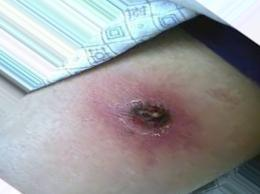Spider: (105, 84, 193, 149)
